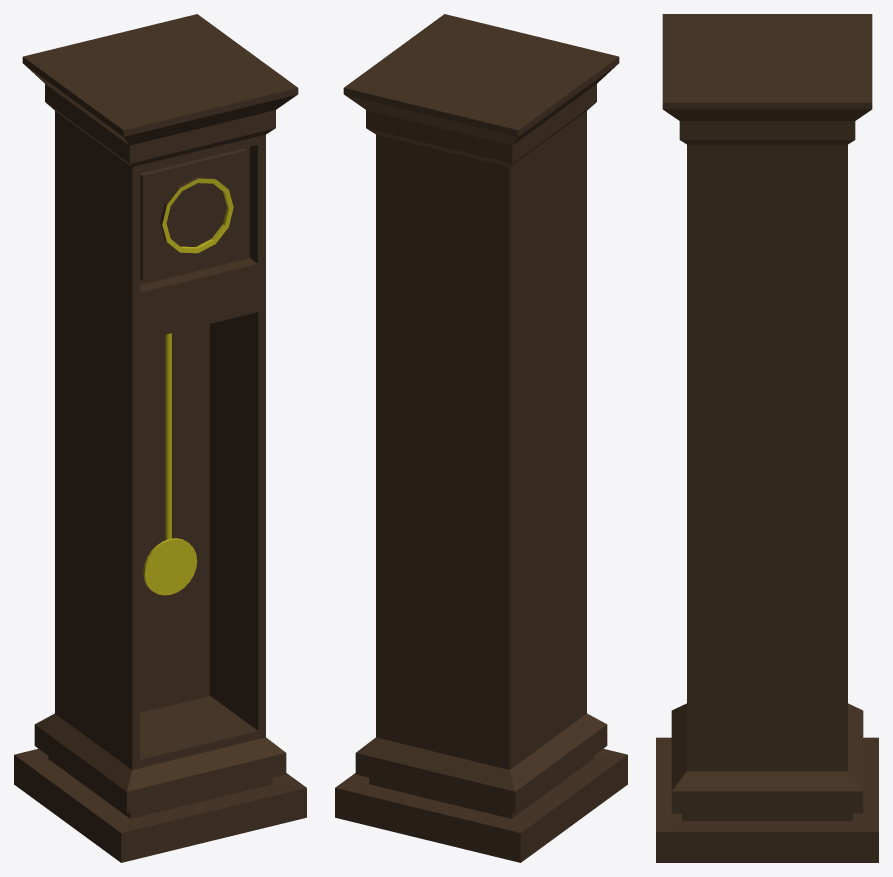
File: Reloj.fbx
3 renders of one model, left to right at view 1: azimuth 30°, elevation 25°; view 2: azimuth 150°, elevation 25°; view 3: azimuth 270°, elevation 25°, orthographic. The views are drawn at different scales.
Parts seen in each view (by area): view 1: Reloj, Pendulo; view 2: Reloj; view 3: Reloj.
Boxes of the visible parts, left/top/right/bottom form: Reloj: left=14, top=14, right=306, bottom=862; Pendulo: left=143, top=333, right=197, bottom=595; Reloj: left=335, top=14, right=627, bottom=862; Reloj: left=656, top=14, right=878, bottom=862.
Size of the model in its own units: 62.4 by 234 by 62.4.
